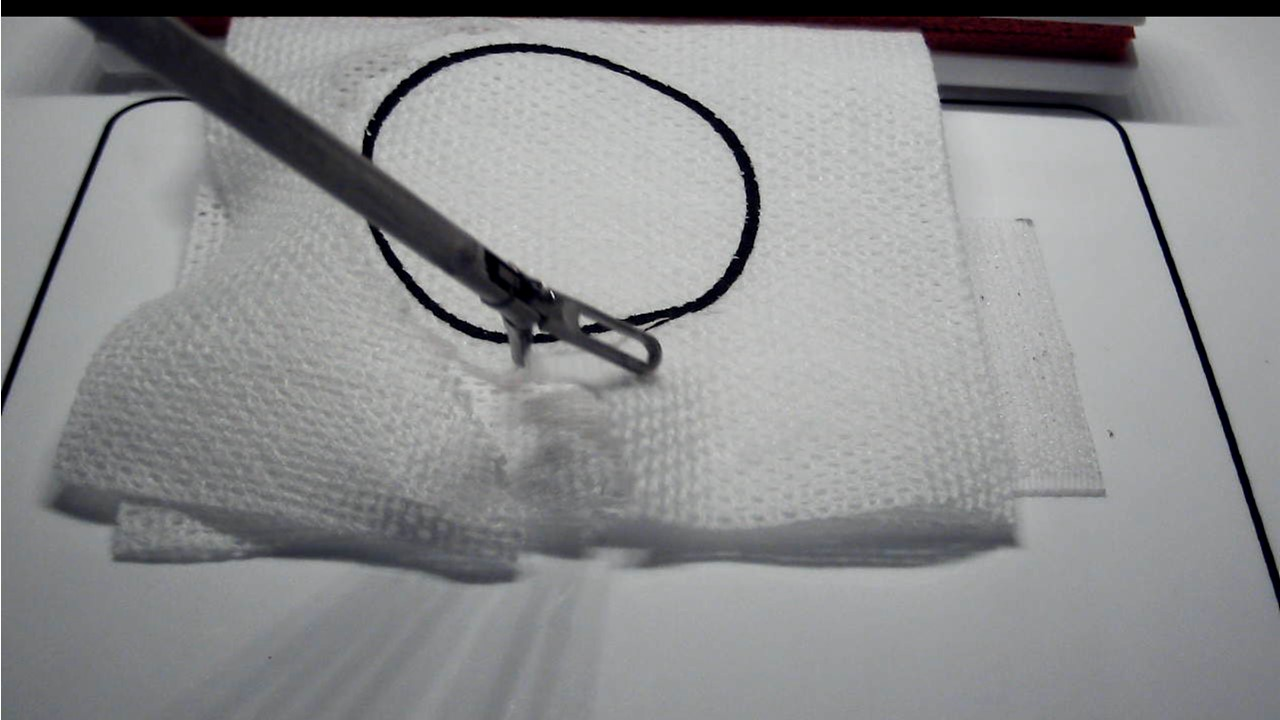Circle: (361, 44, 764, 343)
Grasper: (503, 289, 663, 379)
